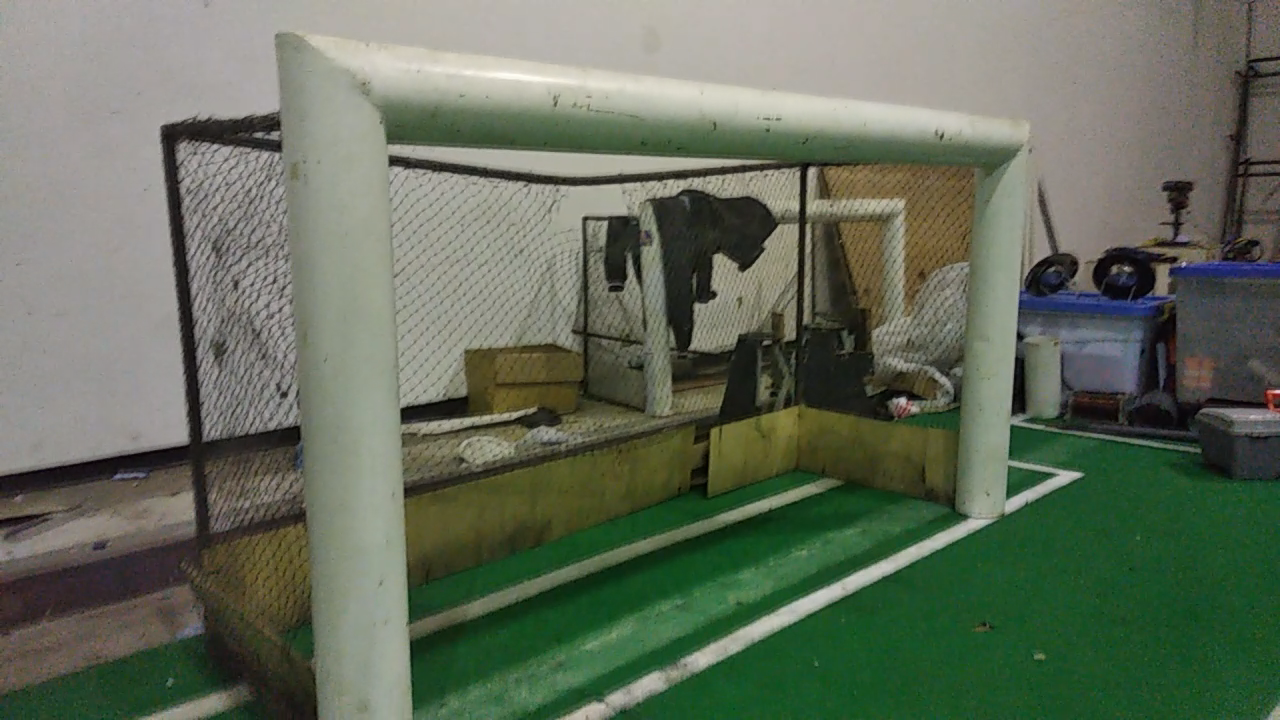gawang: (255, 8, 1036, 715)
